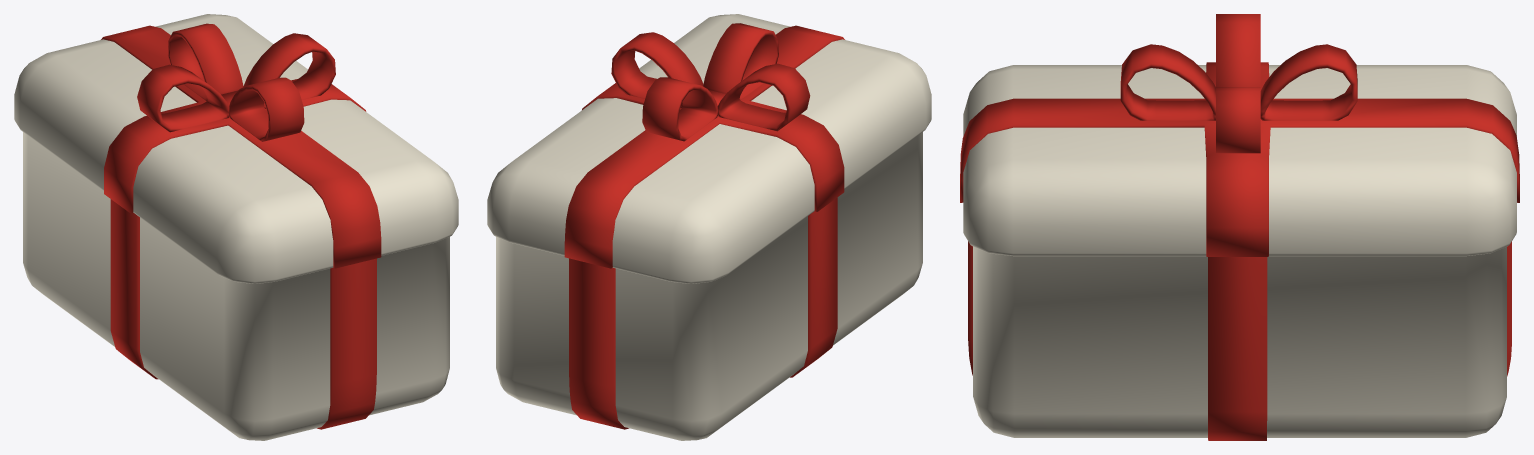
Rendered from regalo3_uvs.fbx.
The picture shows the model from 3 angles, left to right: view 1: azimuth 30°, elevation 25°; view 2: azimuth 150°, elevation 25°; view 3: azimuth 270°, elevation 25°; orthographic projection. The views are drawn at different scales.
Parts seen in each view (by area): view 1: regalo.005; view 2: regalo.005; view 3: regalo.005.
Boxes of the visible parts, left/top/right/bottom form: regalo.005: left=14, top=14, right=458, bottom=440; regalo.005: left=487, top=14, right=931, bottom=440; regalo.005: left=960, top=14, right=1519, bottom=440.
Size of the model in its own units: 63.85 by 74.96 by 112.
